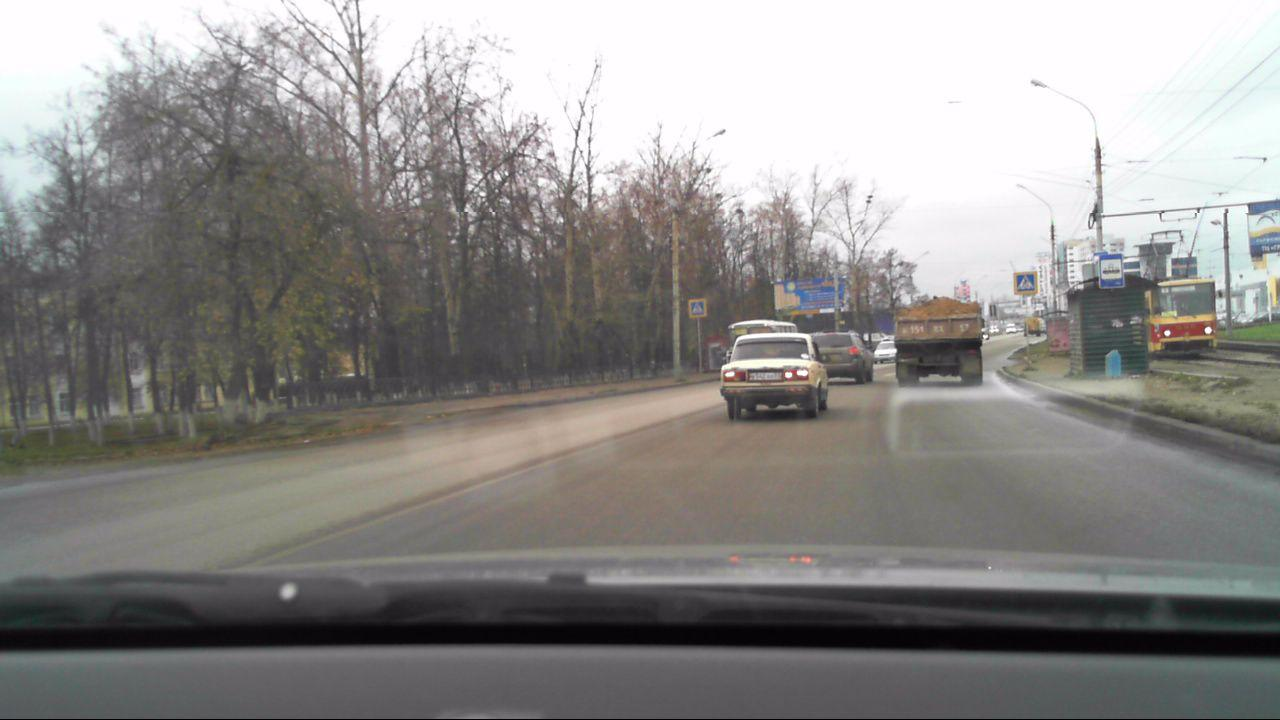5_17: (1100, 256, 1123, 288)
5_19_1: (1018, 272, 1035, 295)
5_19_2: (691, 301, 705, 315)
